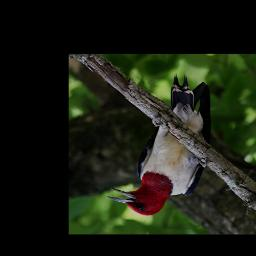Woodpecker: (103, 73, 215, 215)
